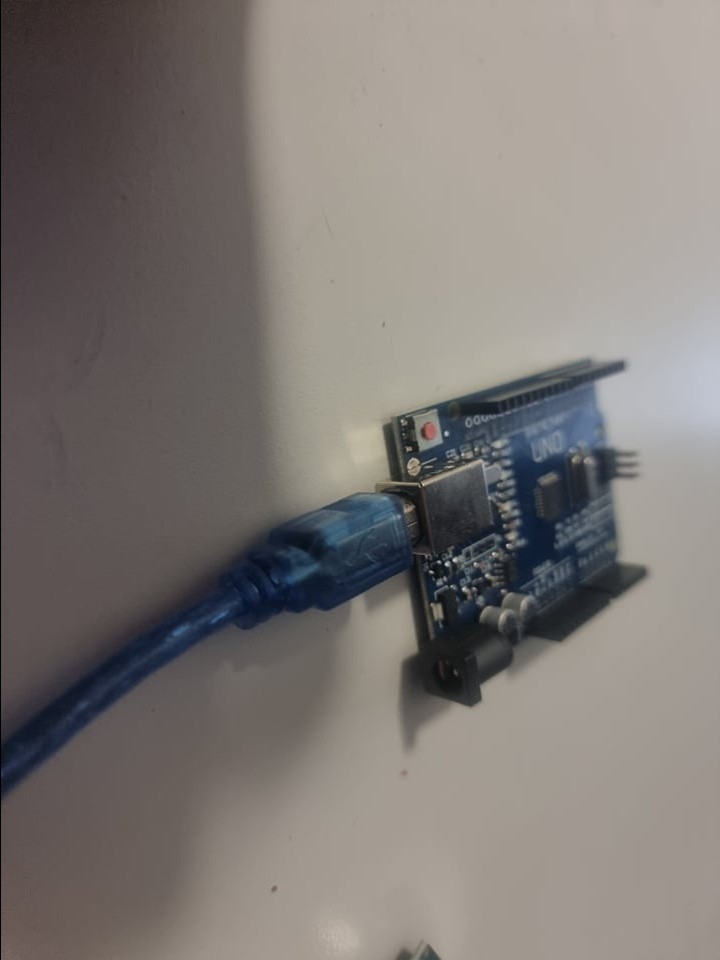UNO R3: (391, 348, 653, 715)
